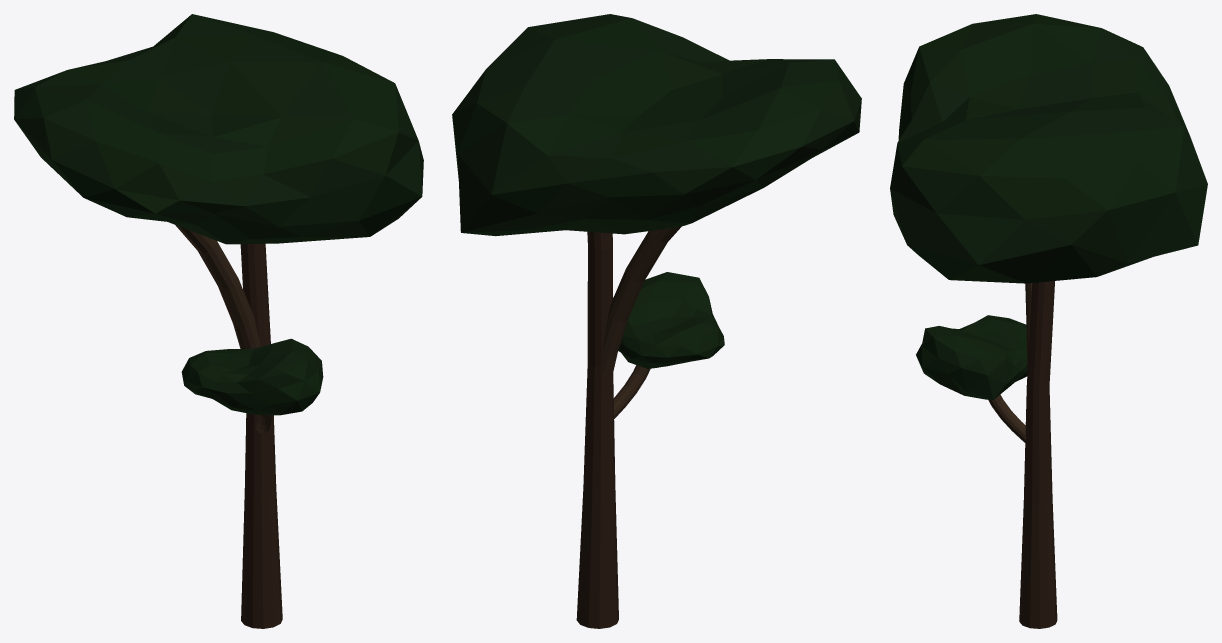
File: SM_light_tree_05.fbx
3 views of the same model, side by side, from view 1: azimuth 30°, elevation 25°; view 2: azimuth 150°, elevation 25°; view 3: azimuth 270°, elevation 25° (orthographic). The views are drawn at different scales.
Visible parts, largest first — view 1: light_tree_05; view 2: light_tree_05; view 3: light_tree_05.
Boxes of the visible parts, x1,y1,x2,y2 form: light_tree_05: (14,14,423,628); light_tree_05: (452,14,861,628); light_tree_05: (890,14,1207,628).
Bounding box in the file's own units: 40.48 × 60.72 × 33.77.
